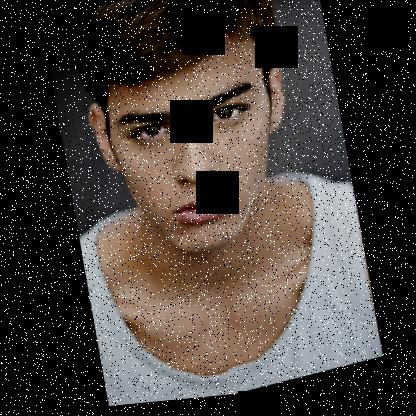Male: (76, 19, 306, 278)
